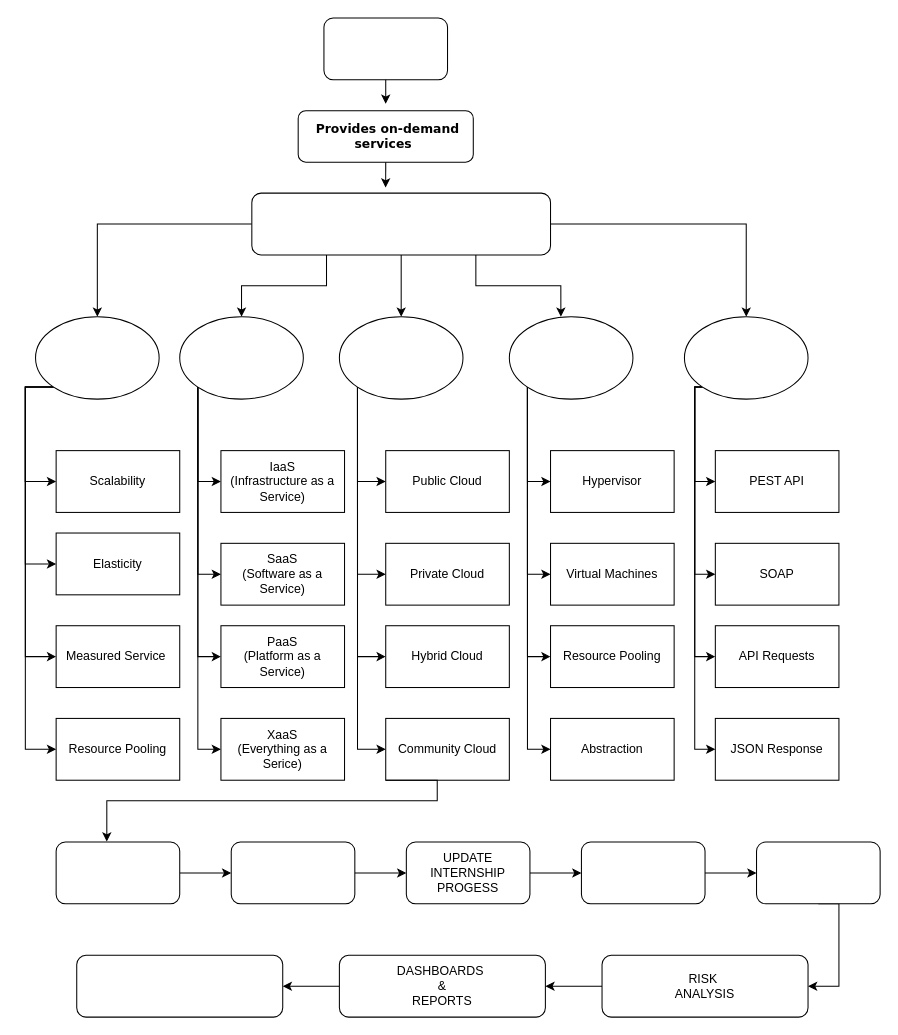
Some shapes in this 898 by 1035 pixel diagram are drawn without their labels. Each missing label, with the centre of its shape:
BACKEND PROCESSING: (x=642, y=872)
Cloud Computing: (x=385, y=48)
Cloud features: (x=97, y=357)
Deployment models: (x=400, y=357)
FIRESTONE DATABASE: (x=818, y=872)
Internship Progress & Risk Monitoring System: (x=401, y=223)
LOGIN: (x=292, y=872)
NOTIFICATIONS ALERTS: (x=179, y=985)
Services Models (IaaS,SaaS,PaaS , XaaS): (x=241, y=357)
USER: (x=117, y=872)
Virtualization & Resource pooling: (x=570, y=357)
Web services: (x=745, y=357)
